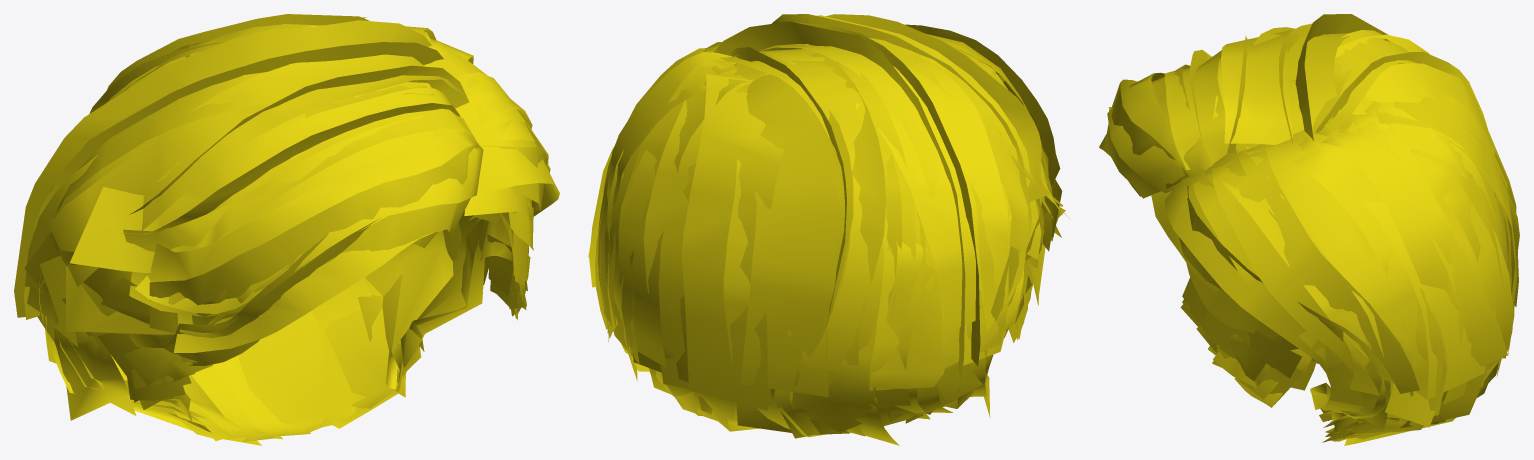
Rendered from Costume04_weight_Hair.fbx.
3 renders of one model, left to right at view 1: azimuth 30°, elevation 25°; view 2: azimuth 150°, elevation 25°; view 3: azimuth 270°, elevation 25°, orthographic. The views are drawn at different scales.
Visible parts, largest first — view 1: hair6; view 2: hair6; view 3: hair6.
Boxes of the visible parts, bbox=[...] form: hair6: bbox=[14, 14, 559, 445]; hair6: bbox=[588, 14, 1069, 445]; hair6: bbox=[1099, 14, 1519, 445].
Size of the model in its own units: 630 by 534 by 531.
